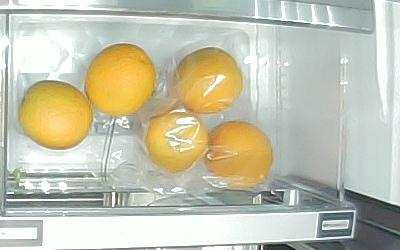orange: (86, 42, 157, 118), (19, 81, 93, 150)
orange_vinyl: (172, 46, 244, 114), (204, 119, 274, 188), (147, 109, 209, 174)
